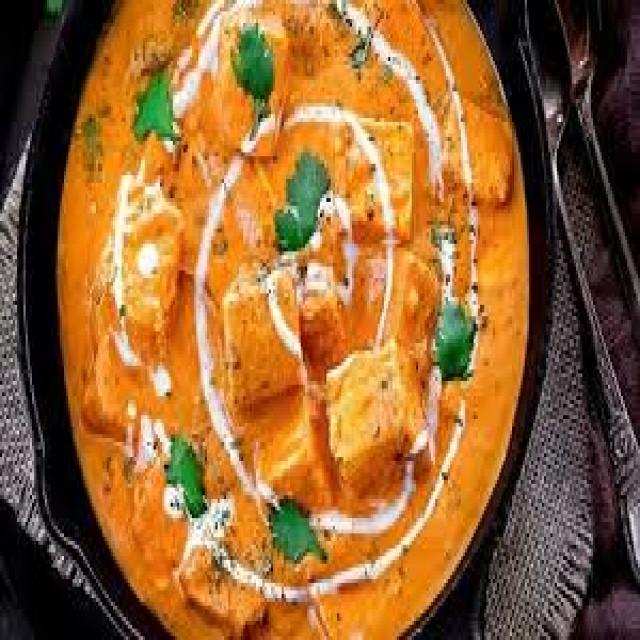paneer masala: (51, 0, 527, 636)
